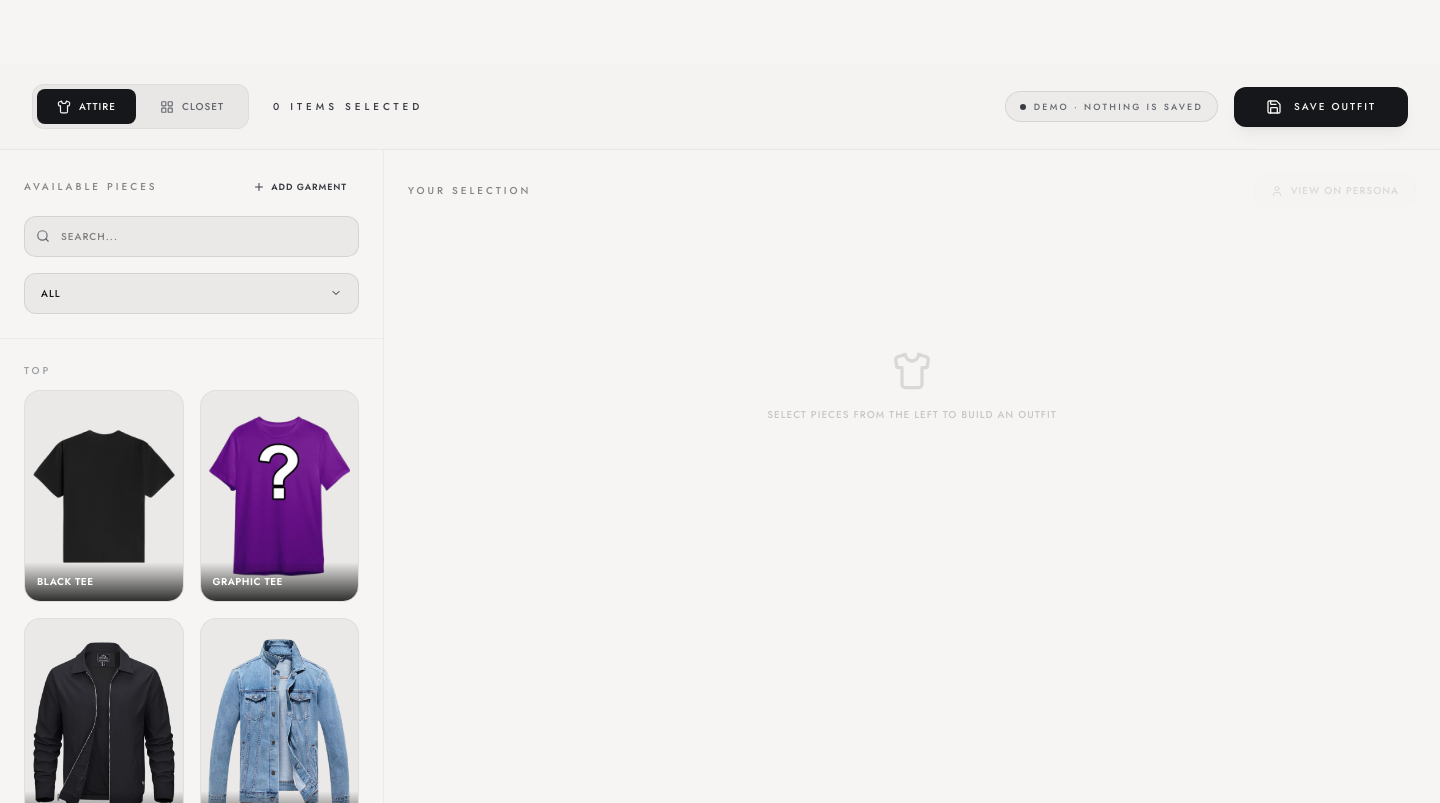
Test: DemoPage › Save Outfit opens the sign-up gate instead of saving anything
Click the button "SAVE OUTFIT".
click(1321, 106)  # box [1234, 86, 1408, 126]
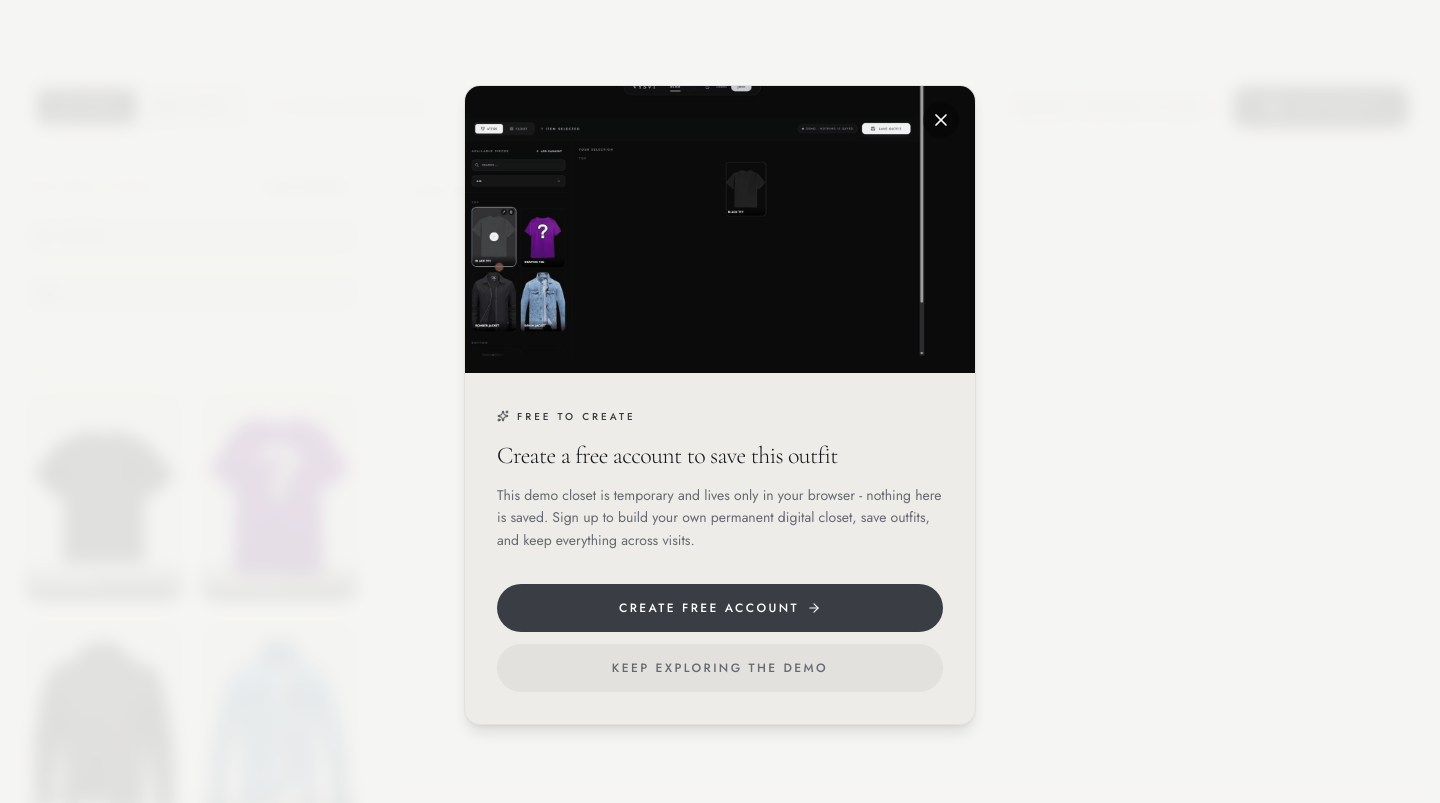
Expected: the heading "Create a free account to save this outfit" is shown, [497, 441, 838, 470]
